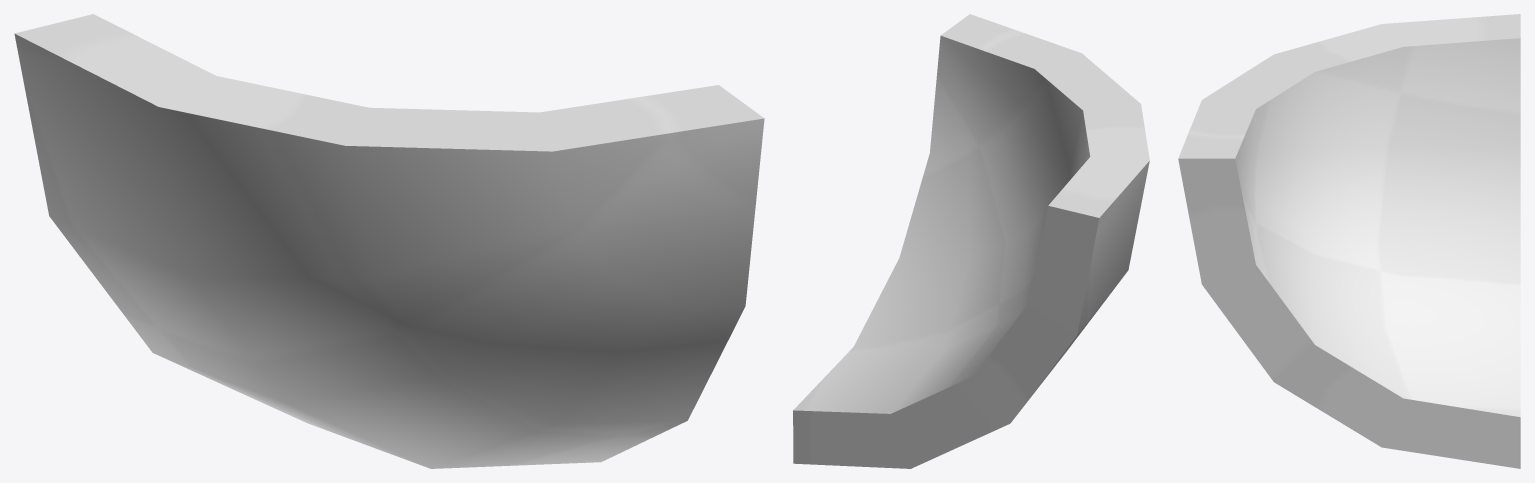
The model's file is enginehall_end_corner_bottomright_round.fbx.
3 views of the same model, side by side, from view 1: azimuth 30°, elevation 25°; view 2: azimuth 150°, elevation 25°; view 3: azimuth 270°, elevation 25° (orthographic). The views are drawn at different scales.
Visible parts, largest first — view 1: enginehall_end_corner_bottomright_round; view 2: enginehall_end_corner_bottomright_round; view 3: enginehall_end_corner_bottomright_round.
Boxes of the visible parts, bbox=[...] form: enginehall_end_corner_bottomright_round: bbox=[14, 14, 764, 468]; enginehall_end_corner_bottomright_round: bbox=[793, 14, 1149, 468]; enginehall_end_corner_bottomright_round: bbox=[1178, 14, 1520, 468].
Bounding box in the file's own units: 120 × 120 × 120.
